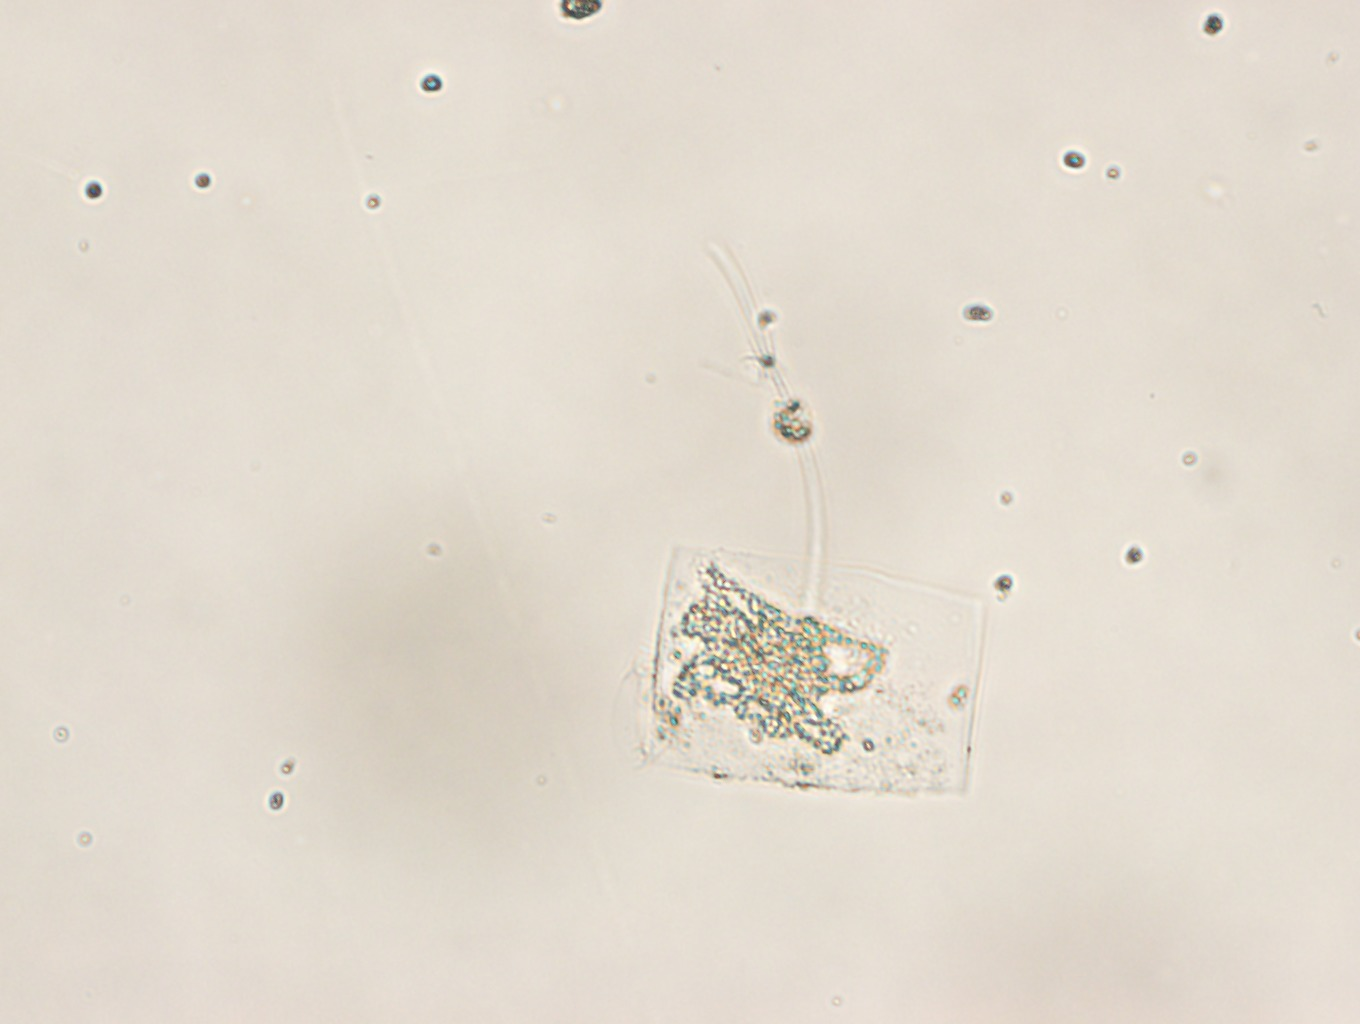helicotheca: (644, 540, 986, 798)
